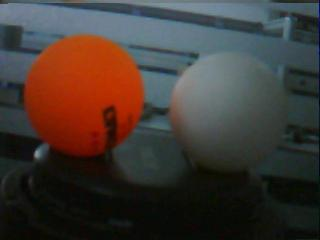oball: (24, 35, 144, 154)
